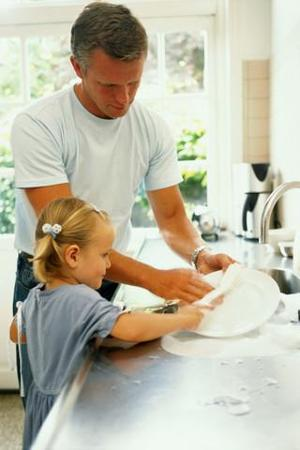person: (10, 3, 244, 414)
